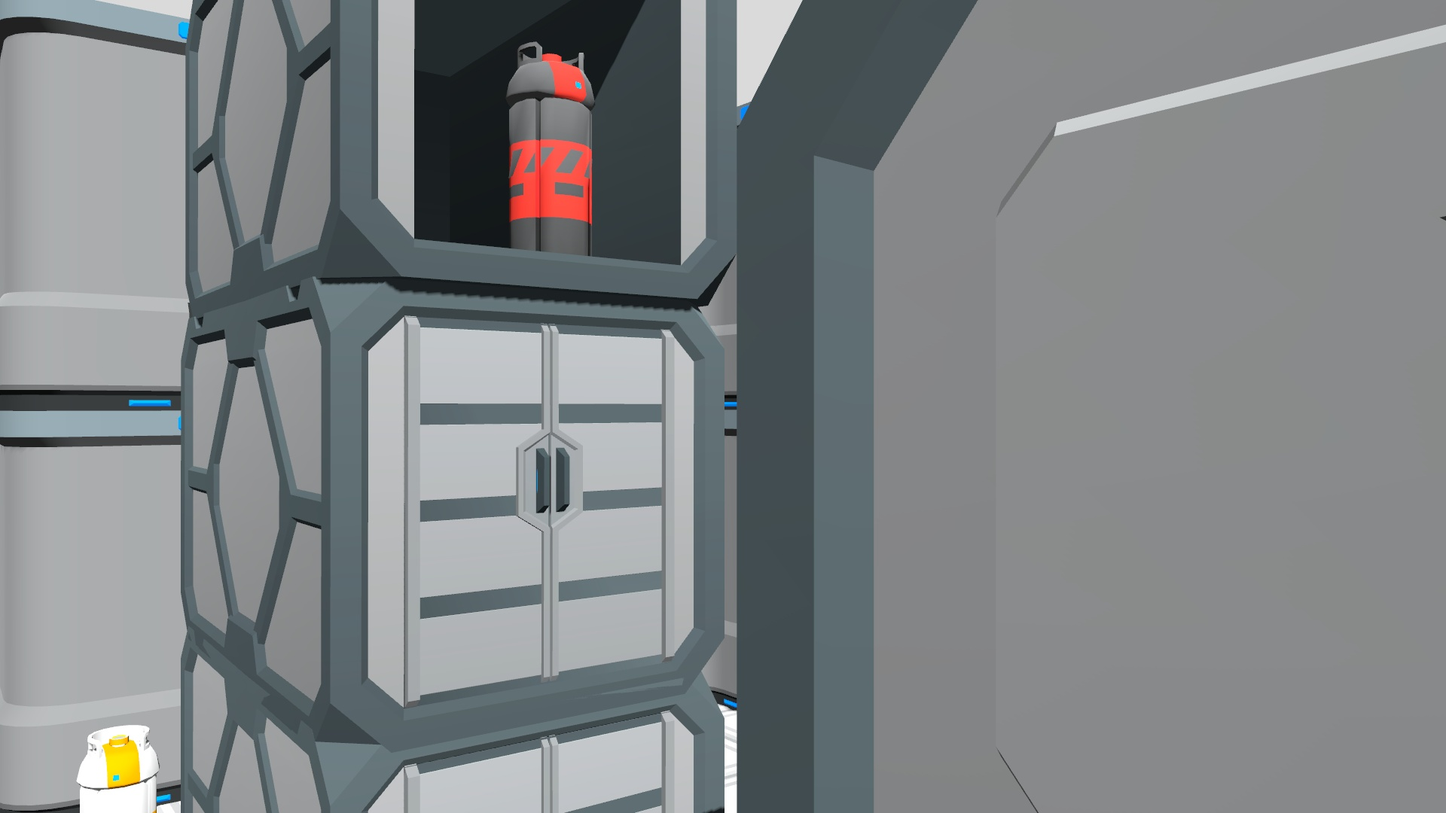red_barrel: (503, 38, 601, 261), (77, 721, 161, 813)
